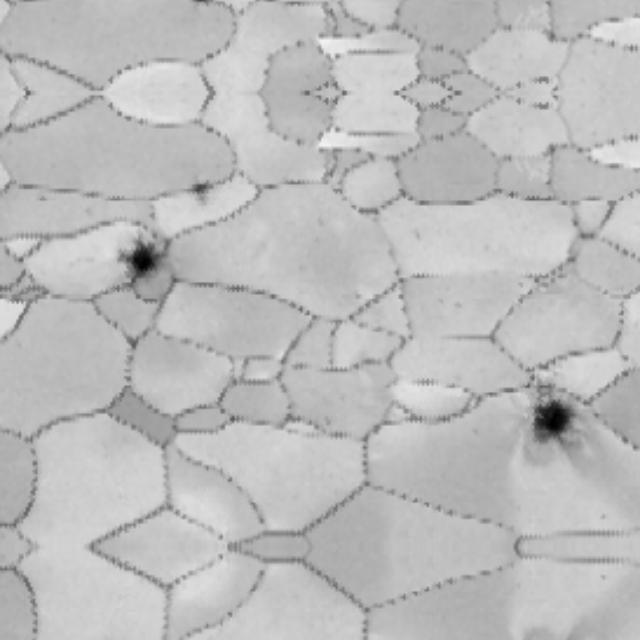good_void: (508, 381, 597, 467), (116, 236, 170, 294), (189, 174, 216, 212), (189, 0, 215, 12), (535, 72, 550, 88), (535, 99, 550, 114)
